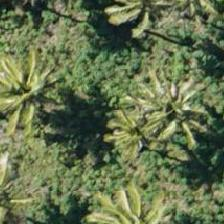coconut_tree: (124, 69, 214, 159), (0, 42, 70, 132)
